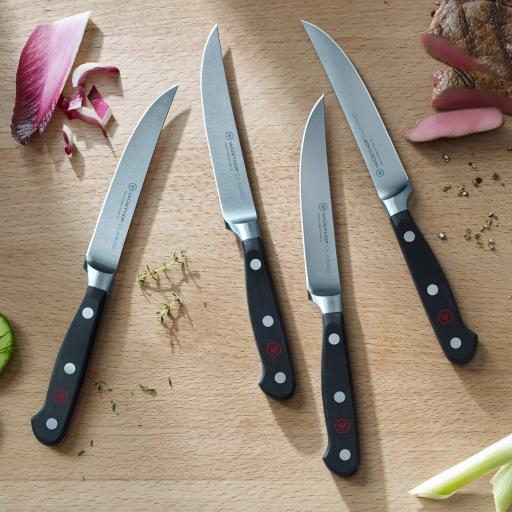knife: (25, 81, 186, 452)
